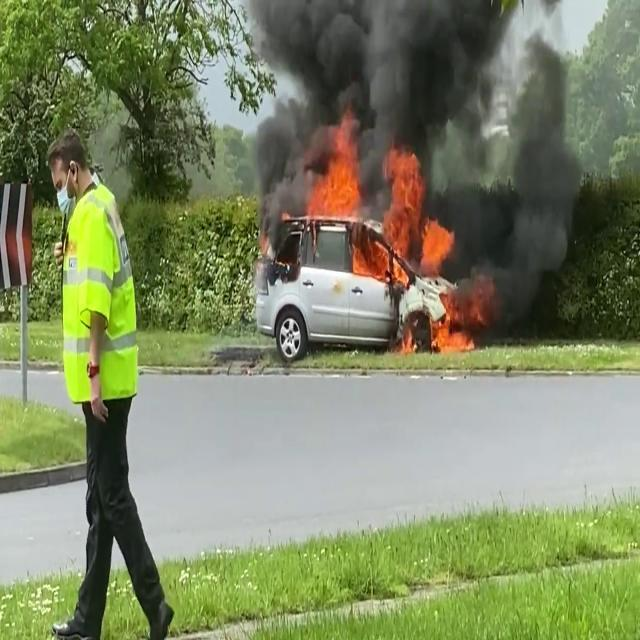Fire: (302, 118, 446, 278)
Smoke: (233, 0, 599, 245)
